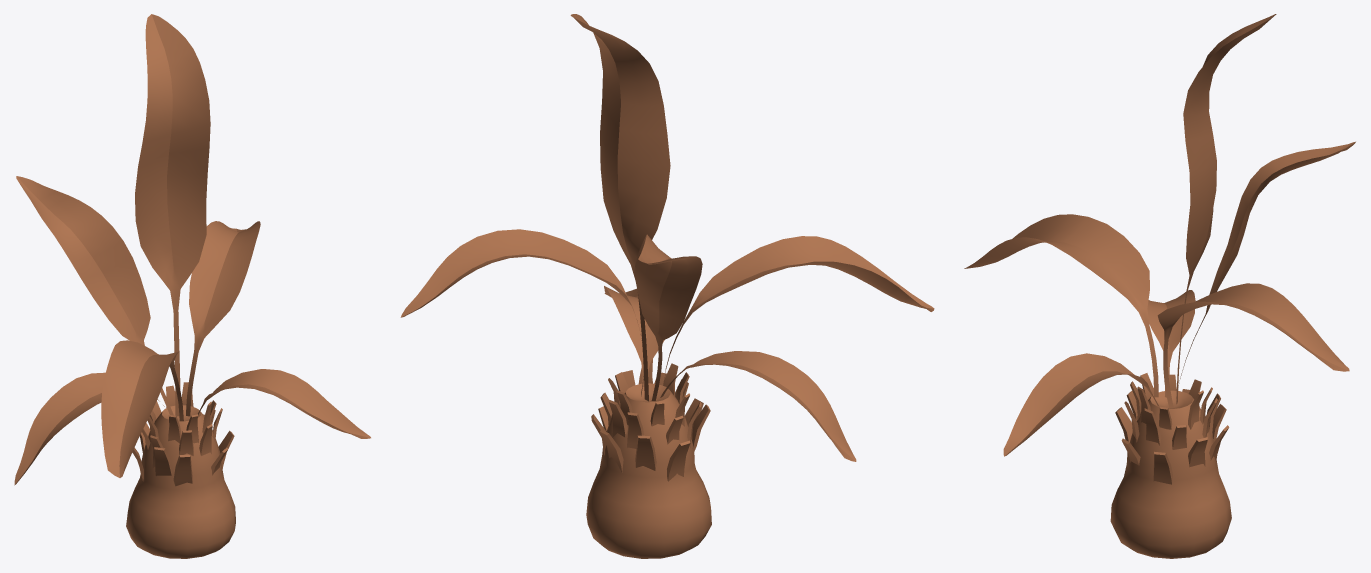
Rendered from Fern.fbx.
The picture shows the model from 3 angles, left to right: view 1: azimuth 30°, elevation 25°; view 2: azimuth 150°, elevation 25°; view 3: azimuth 270°, elevation 25°; orthographic projection. The views are drawn at different scales.
Visible parts, largest first — view 1: Fern_Base; view 2: Fern_Base; view 3: Fern_Base.
Boxes of the visible parts, x1,y1,x2,y2 form: Fern_Base: [14, 14, 370, 558]; Fern_Base: [400, 14, 934, 558]; Fern_Base: [964, 14, 1355, 558].
Size of the model in its own units: 1.67 by 2.48 by 1.65.
